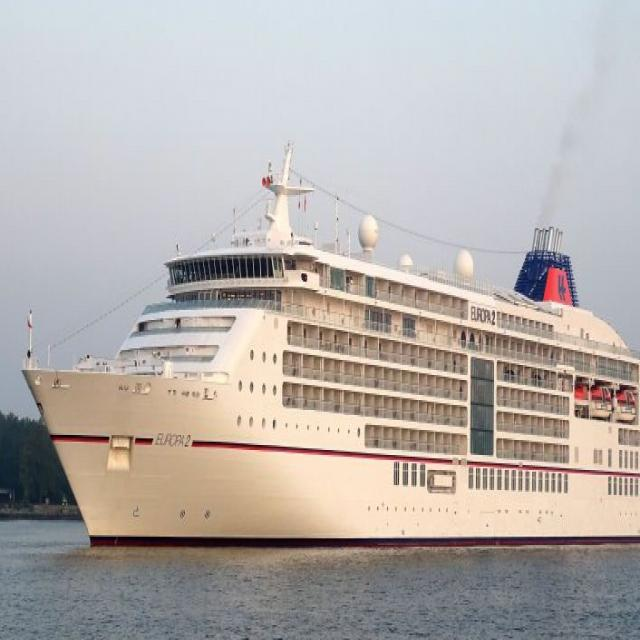cruises: (17, 136, 640, 558)
